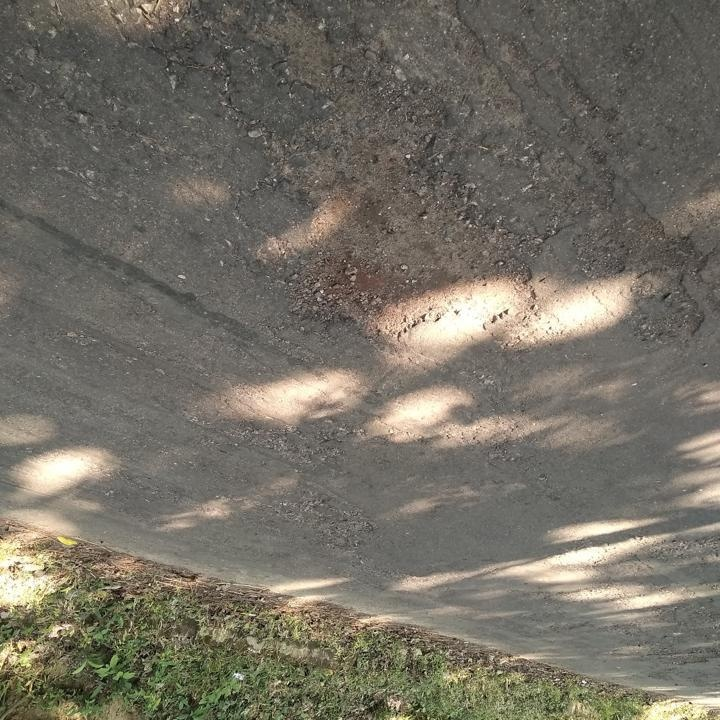pothole: (277, 81, 535, 348)
